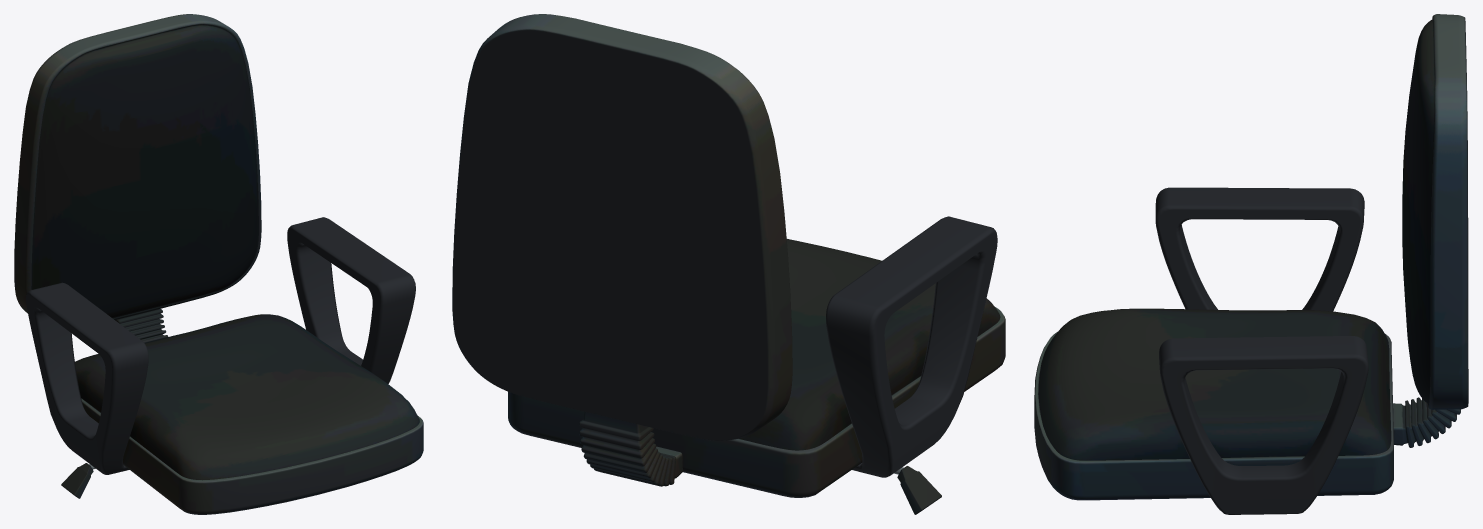
The model's file is wheelChair_top.obj.
3 renders of one model, left to right at view 1: azimuth 30°, elevation 25°; view 2: azimuth 150°, elevation 25°; view 3: azimuth 270°, elevation 25°, orthographic. The views are drawn at different scales.
Visible parts, largest first — view 1: node_id87.063_mesh_id88.063, node_id87.052_mesh_id88.052, node_id87.049_mesh_id88.049, node_id87.064_mesh_id88.064, node_id87.056_mesh_id88.056, node_id87.043_mesh_id88.043, node_id87.055_mesh_id88.055, node_id87.041_mesh_id88.041, node_id87.053_mesh_id88.053, node_id87.040_mesh_id88.040, node_id87.059_mesh_id88.059, node_id87.046_mesh_id88.046 (+2 smaller); view 2: node_id87.064_mesh_id88.064, node_id87.052_mesh_id88.052, node_id87.049_mesh_id88.049, node_id87.056_mesh_id88.056, node_id87.055_mesh_id88.055, node_id87.053_mesh_id88.053, node_id87.060_mesh_id88.060, node_id87.062_mesh_id88.062, node_id87.046_mesh_id88.046, node_id87.054_mesh_id88.054; view 3: node_id87.052_mesh_id88.052, node_id87.064_mesh_id88.064, node_id87.042_mesh_id88.042, node_id87.049_mesh_id88.049, node_id87.063_mesh_id88.063, node_id87.054_mesh_id88.054, node_id87.043_mesh_id88.043, node_id87.056_mesh_id88.056, node_id87.040_mesh_id88.040, node_id87.061_mesh_id88.061, node_id87.053_mesh_id88.053, node_id87.059_mesh_id88.059.
Boxes of the visible parts, left/top/right/bottom form: node_id87.063_mesh_id88.063: left=31, top=24, right=258, bottom=318; node_id87.052_mesh_id88.052: left=75, top=314, right=419, bottom=480; node_id87.049_mesh_id88.049: left=81, top=398, right=423, bottom=514; node_id87.064_mesh_id88.064: left=14, top=14, right=261, bottom=319; node_id87.056_mesh_id88.056: left=31, top=282, right=147, bottom=474; node_id87.043_mesh_id88.043: left=293, top=217, right=414, bottom=383; node_id87.055_mesh_id88.055: left=26, top=290, right=116, bottom=474; node_id87.041_mesh_id88.041: left=287, top=225, right=384, bottom=372; node_id87.053_mesh_id88.053: left=39, top=310, right=98, bottom=436; node_id87.040_mesh_id88.040: left=301, top=245, right=362, bottom=365; node_id87.059_mesh_id88.059: left=119, top=309, right=167, bottom=342; node_id87.046_mesh_id88.046: left=61, top=463, right=93, bottom=498; node_id87.064_mesh_id88.064: left=452, top=14, right=792, bottom=440; node_id87.052_mesh_id88.052: left=738, top=239, right=1000, bottom=450; node_id87.049_mesh_id88.049: left=508, top=307, right=1005, bottom=497; node_id87.056_mesh_id88.056: left=827, top=216, right=990, bottom=477; node_id87.055_mesh_id88.055: left=868, top=227, right=997, bottom=477; node_id87.053_mesh_id88.053: left=895, top=255, right=978, bottom=425; node_id87.060_mesh_id88.060: left=579, top=412, right=675, bottom=486; node_id87.062_mesh_id88.062: left=638, top=424, right=683, bottom=486; node_id87.046_mesh_id88.046: left=897, top=466, right=941, bottom=514; node_id87.054_mesh_id88.054: left=826, top=217, right=944, bottom=467; node_id87.052_mesh_id88.052: left=1038, top=308, right=1391, bottom=460; node_id87.064_mesh_id88.064: left=1428, top=14, right=1468, bottom=409; node_id87.042_mesh_id88.042: left=1160, top=354, right=1368, bottom=514; node_id87.049_mesh_id88.049: left=1034, top=331, right=1393, bottom=500; node_id87.063_mesh_id88.063: left=1402, top=19, right=1434, bottom=404; node_id87.054_mesh_id88.054: left=1155, top=205, right=1363, bottom=311; node_id87.043_mesh_id88.043: left=1159, top=336, right=1368, bottom=369; node_id87.056_mesh_id88.056: left=1155, top=187, right=1364, bottom=222; node_id87.040_mesh_id88.040: left=1184, top=372, right=1344, bottom=477; node_id87.061_mesh_id88.061: left=1393, top=409, right=1460, bottom=447; node_id87.053_mesh_id88.053: left=1180, top=225, right=1339, bottom=309; node_id87.059_mesh_id88.059: left=1393, top=397, right=1436, bottom=428.
Bounding box in the file's own units: 1.22 × 1.4 × 1.3.
